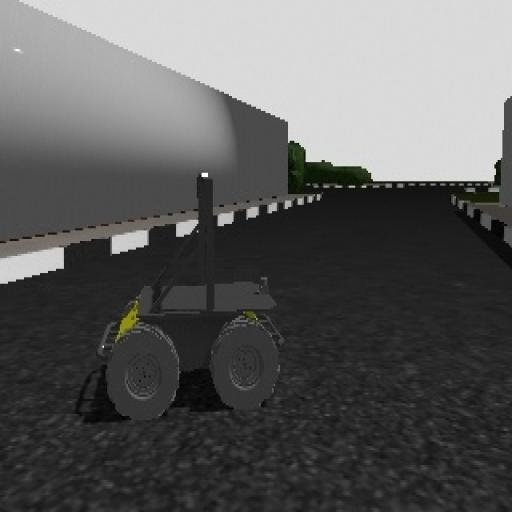huskya200: (82, 160, 340, 448)
